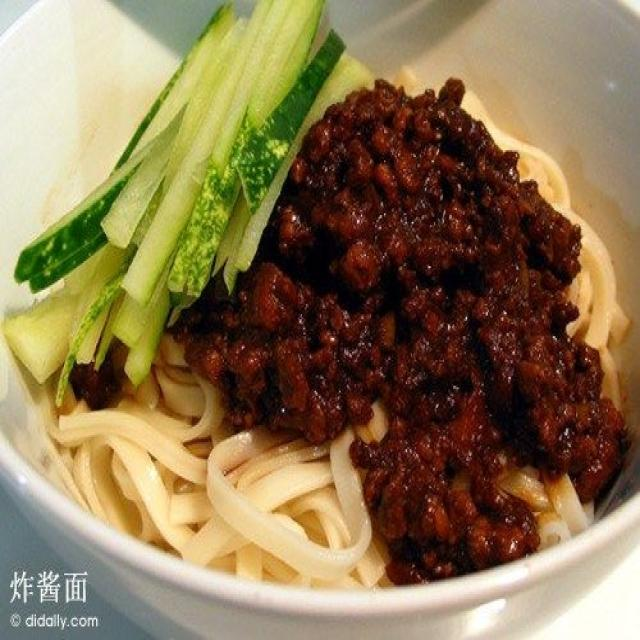面条主食: (19, 29, 626, 618)
